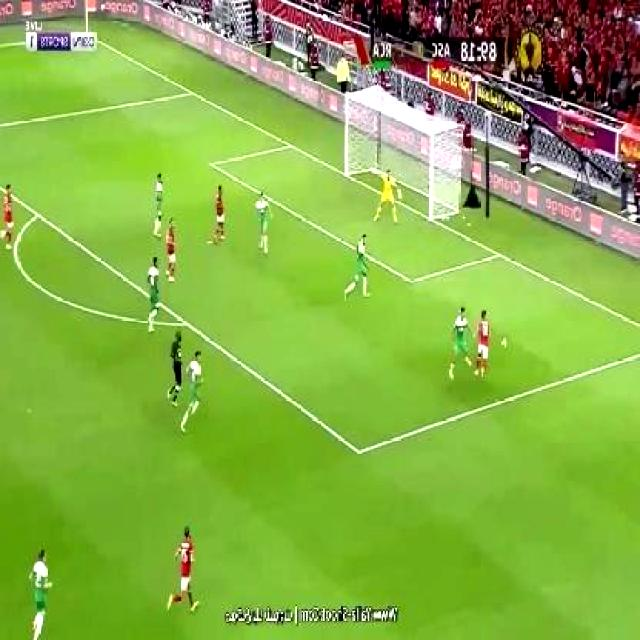bigarea_bottom_inner: (351, 437, 369, 466)
bigarea_top_outter: (188, 85, 200, 100)
bottom_arc_area_intersection: (182, 315, 192, 331)
smallarea_bottom_inner: (405, 268, 420, 292)
smallarea_bottom_outter: (492, 245, 506, 263)
smallarea_top_inner: (206, 155, 219, 171)
smallarea_top_outter: (284, 137, 298, 154)
top_arc_area_intersection: (32, 206, 45, 222)
